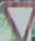Give way: (1, 0, 33, 40)
